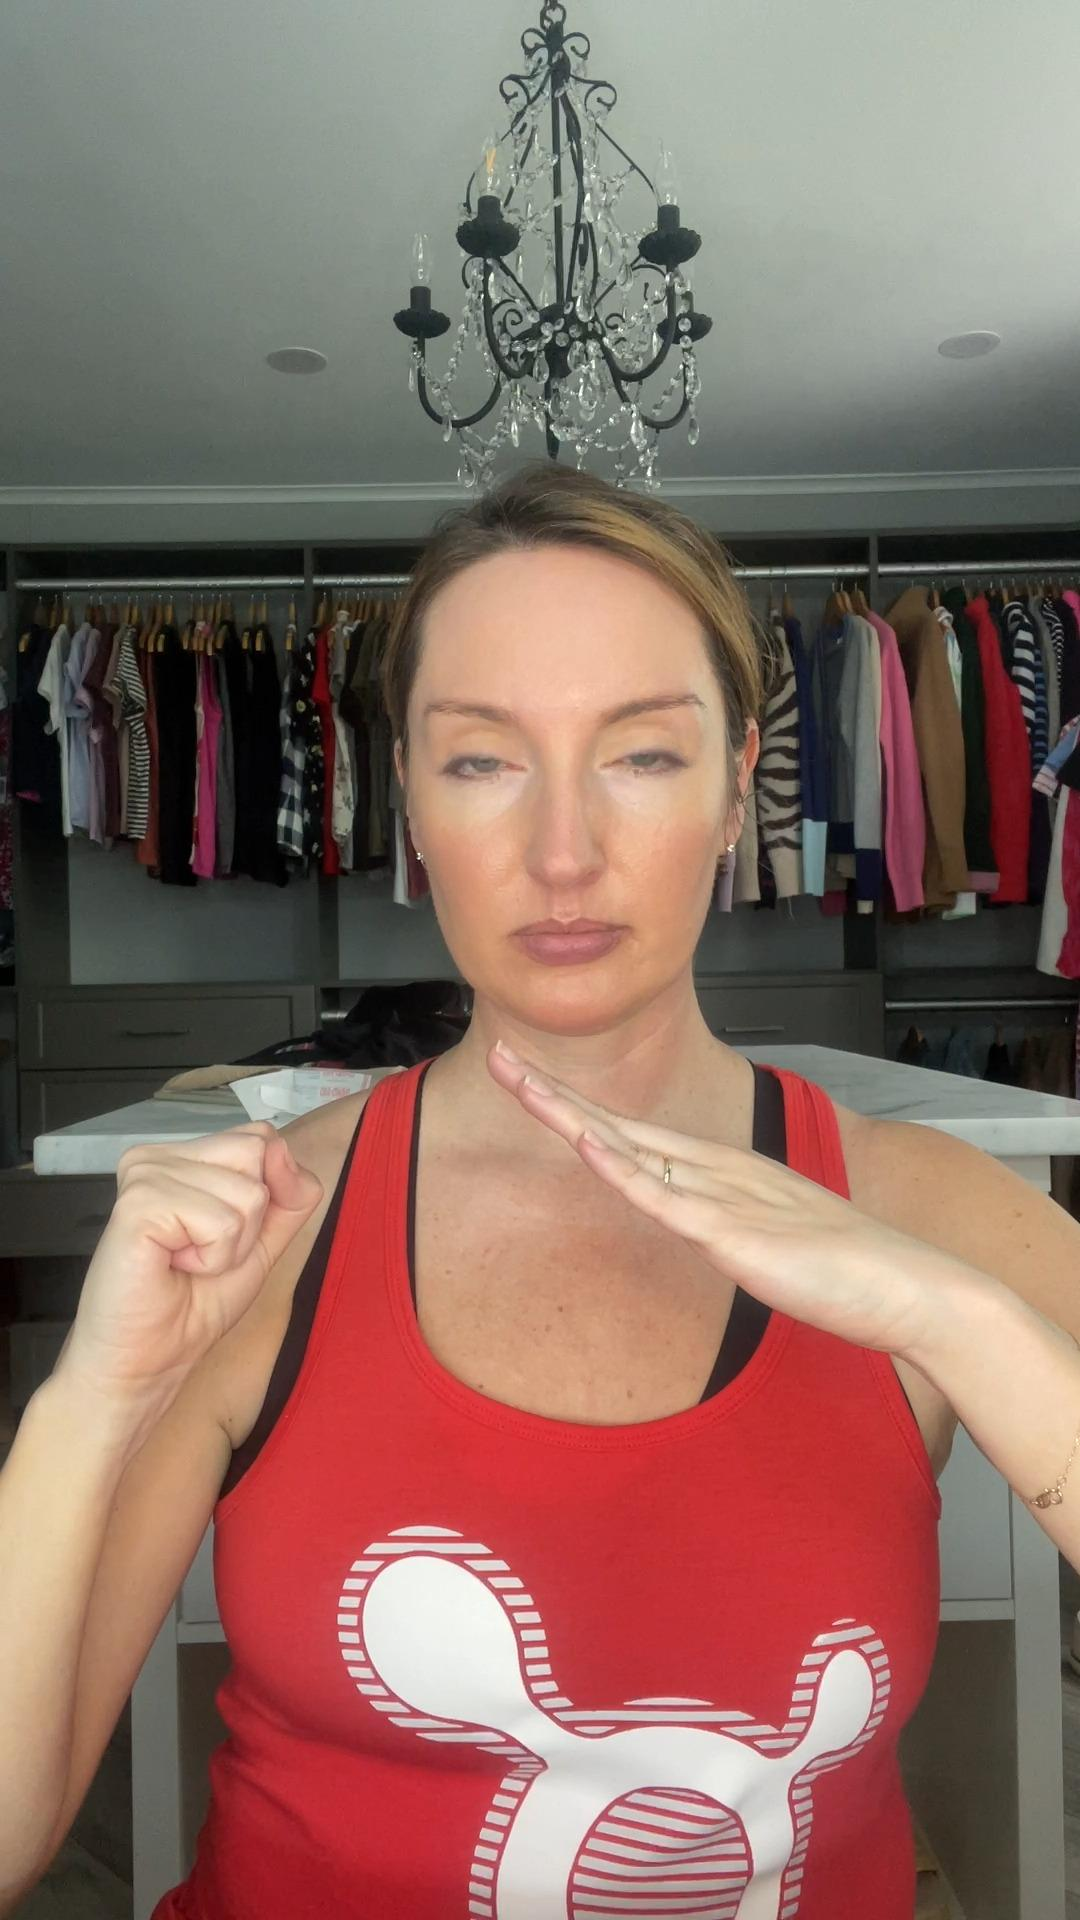Paper: (491, 1027, 934, 1367)
Rock: (80, 1125, 318, 1411)
